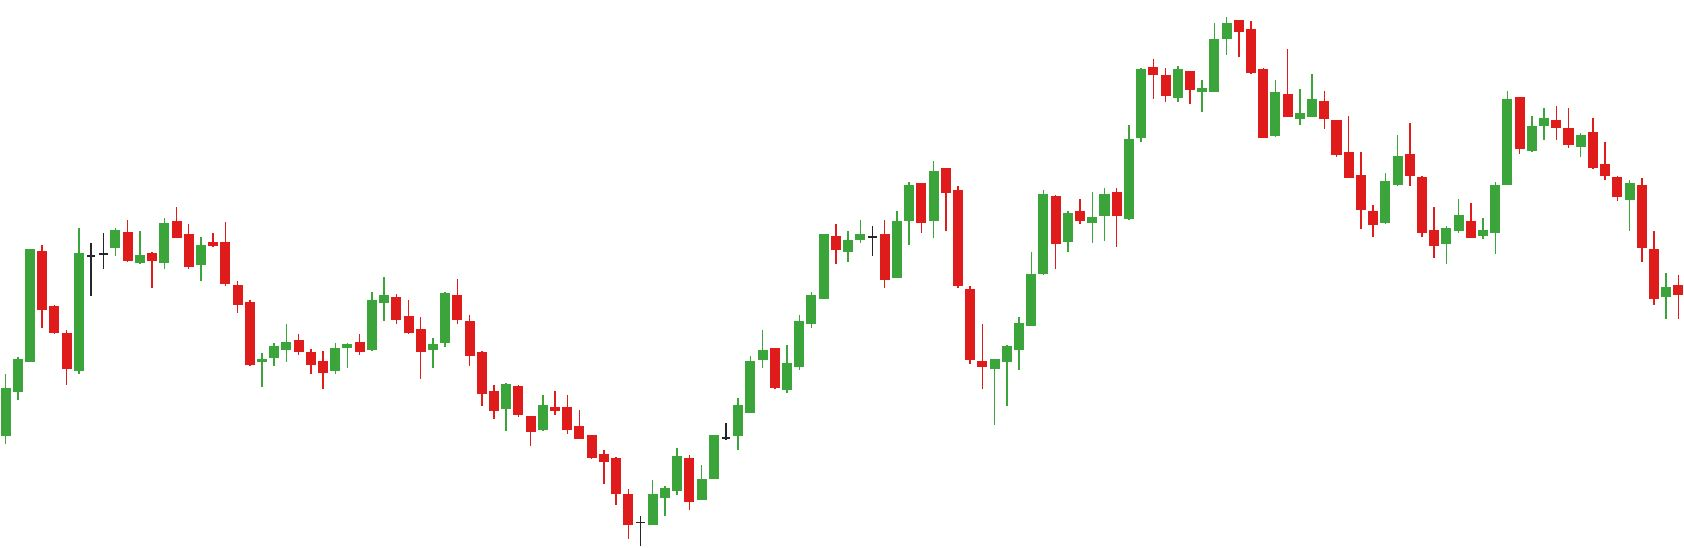buy: (769, 271, 1014, 439), (1356, 169, 1453, 266)
sell: (1392, 84, 1528, 165), (1138, 15, 1259, 99)
